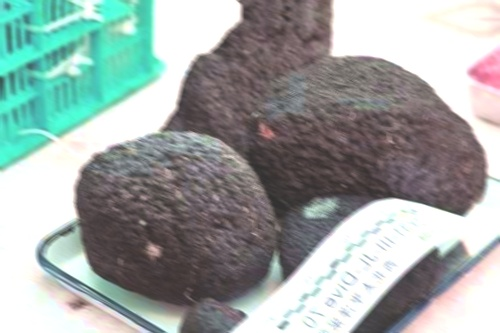halobolite: (255, 66, 467, 239), (66, 138, 281, 286), (179, 1, 349, 158), (172, 274, 251, 333)
